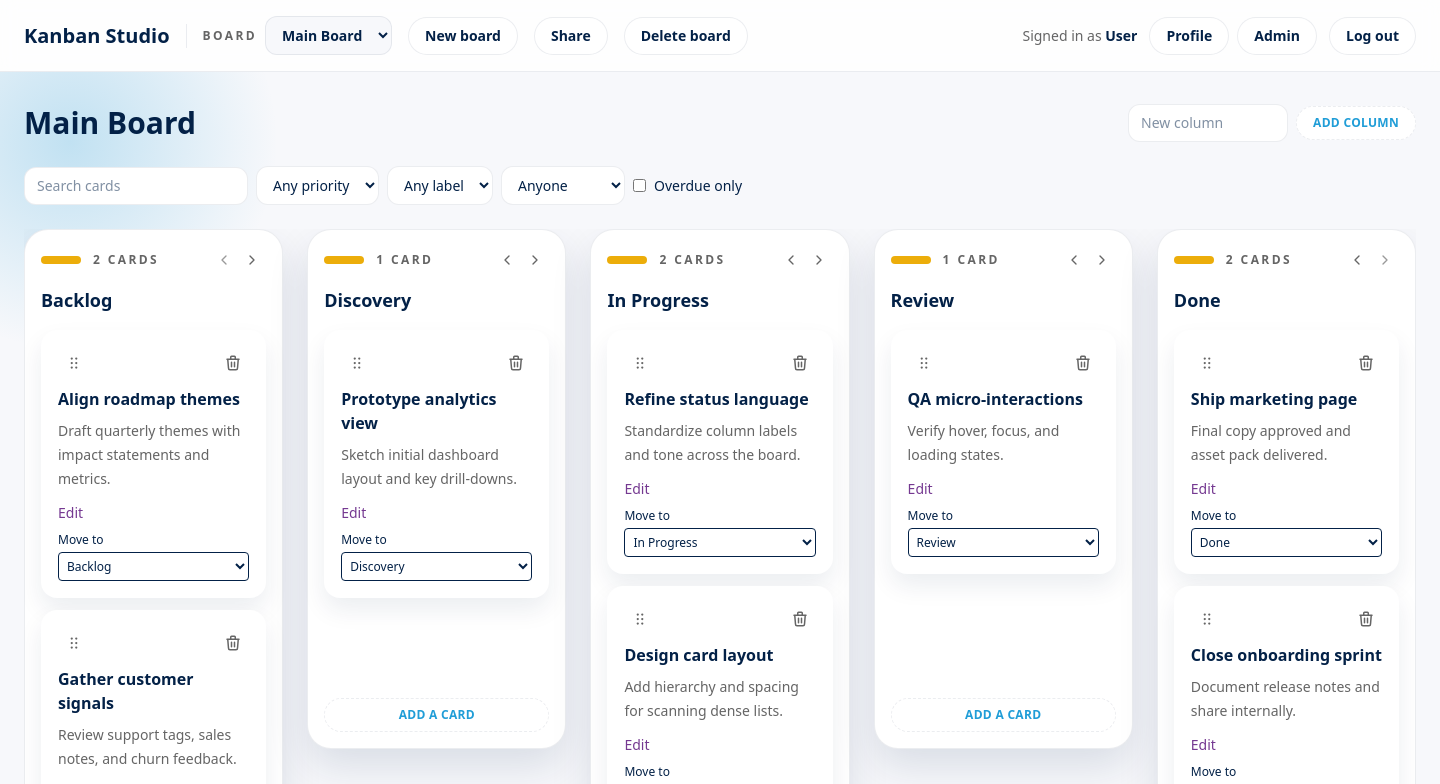
it: creates, switches, renames and deletes boards
The image size is (1440, 784).
Expected: the field named "Board name" is shown, [24,105,1116,141]
Click the button "New board" at [463, 36], box [408,16,518,54]
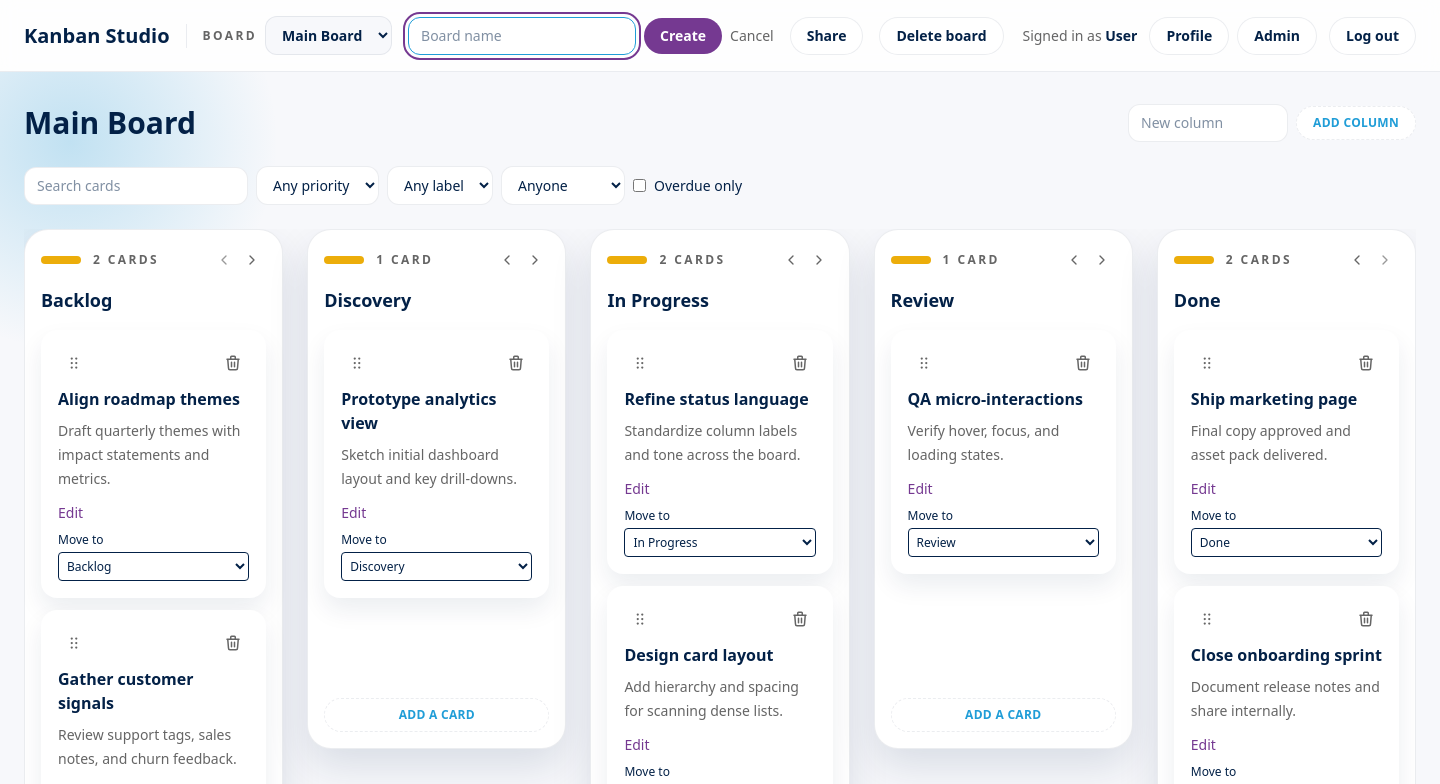
Type "Launch" into the field named "New board name" at [522, 36], box [408,16,636,54]
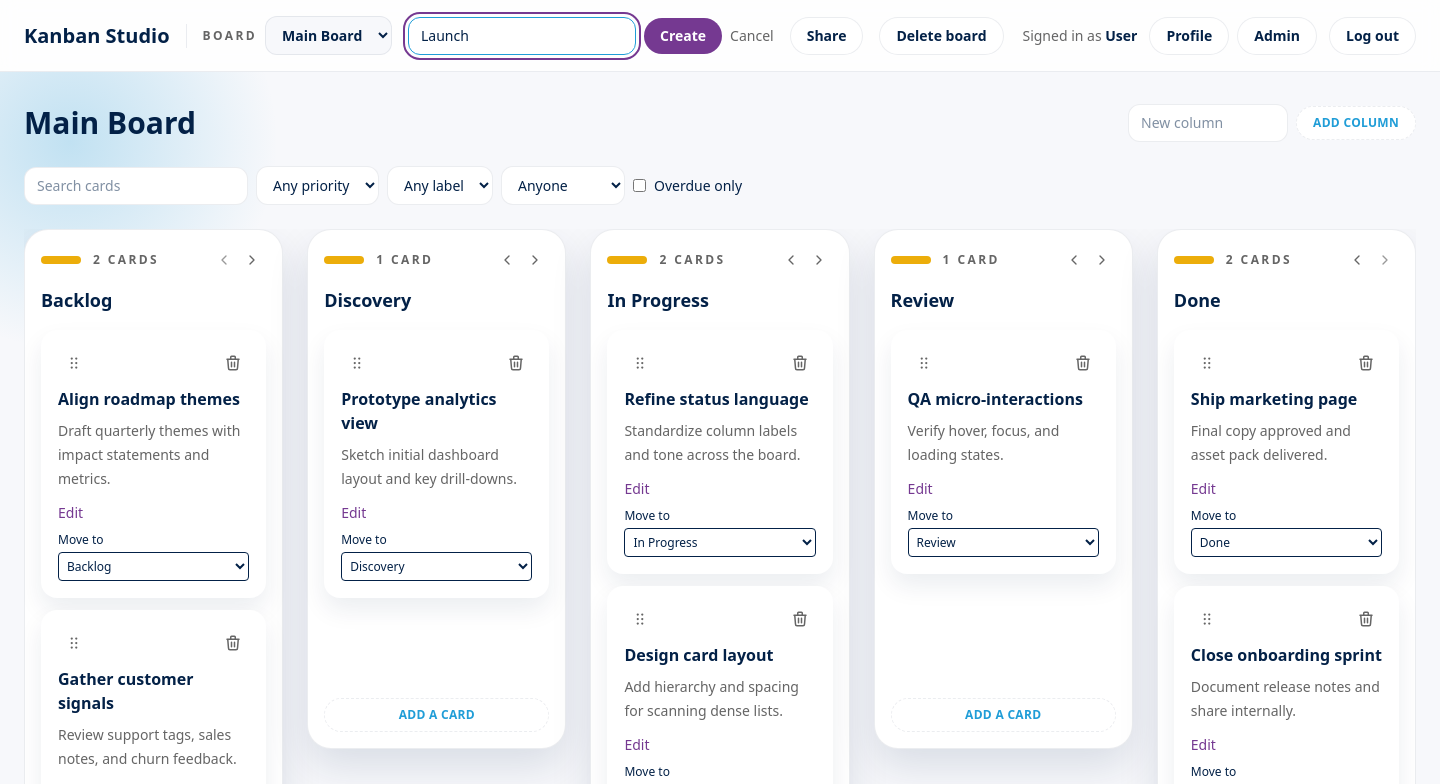
Click the button "Create" at [683, 36], box [644,18,722,54]
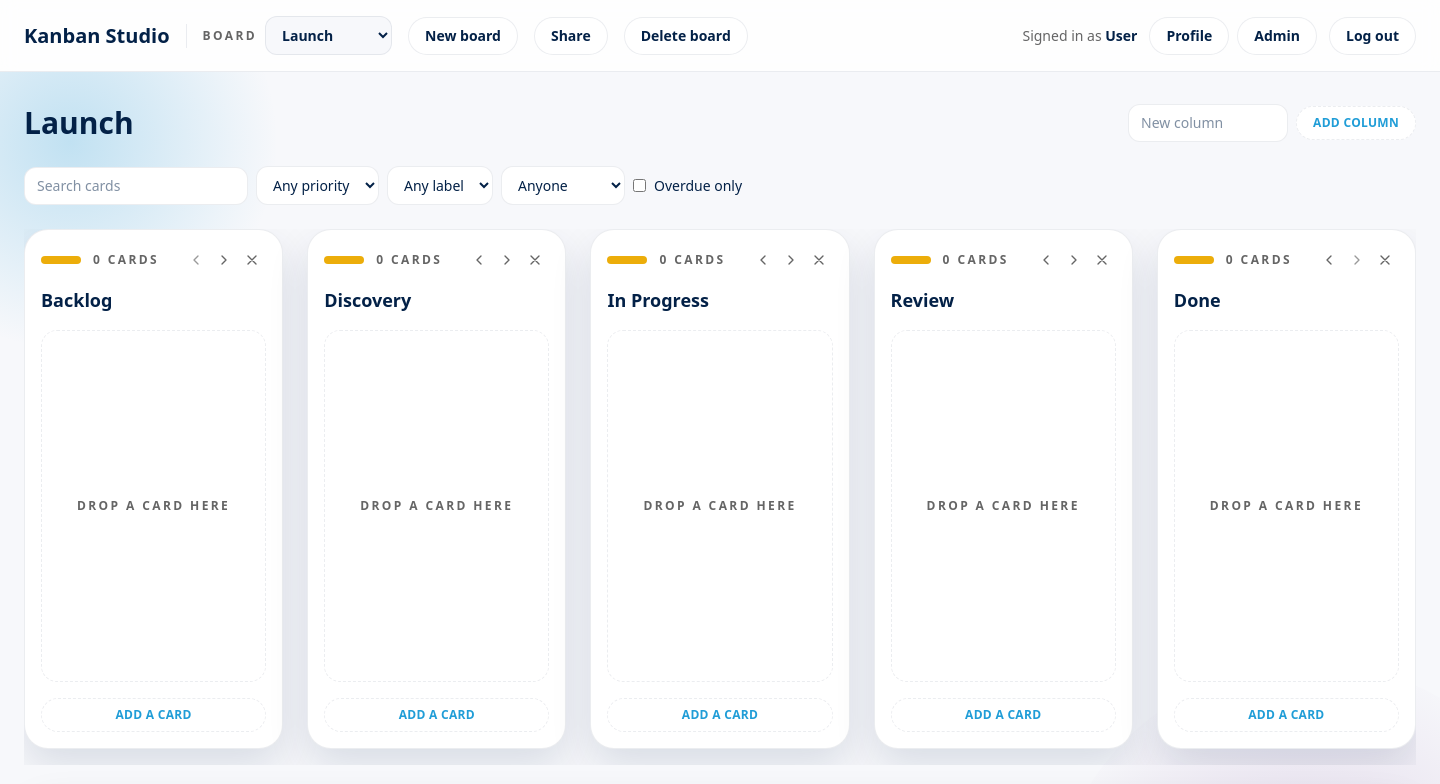
Now the field named "Board name" holds "Launch"
Now the dropdown labelled "Board" shows "Launch", box [265,16,392,55]
Replace the text in the field named "Board name" with "Launch Plan" at [570, 123], box [24,105,1116,141]
Then press Enter
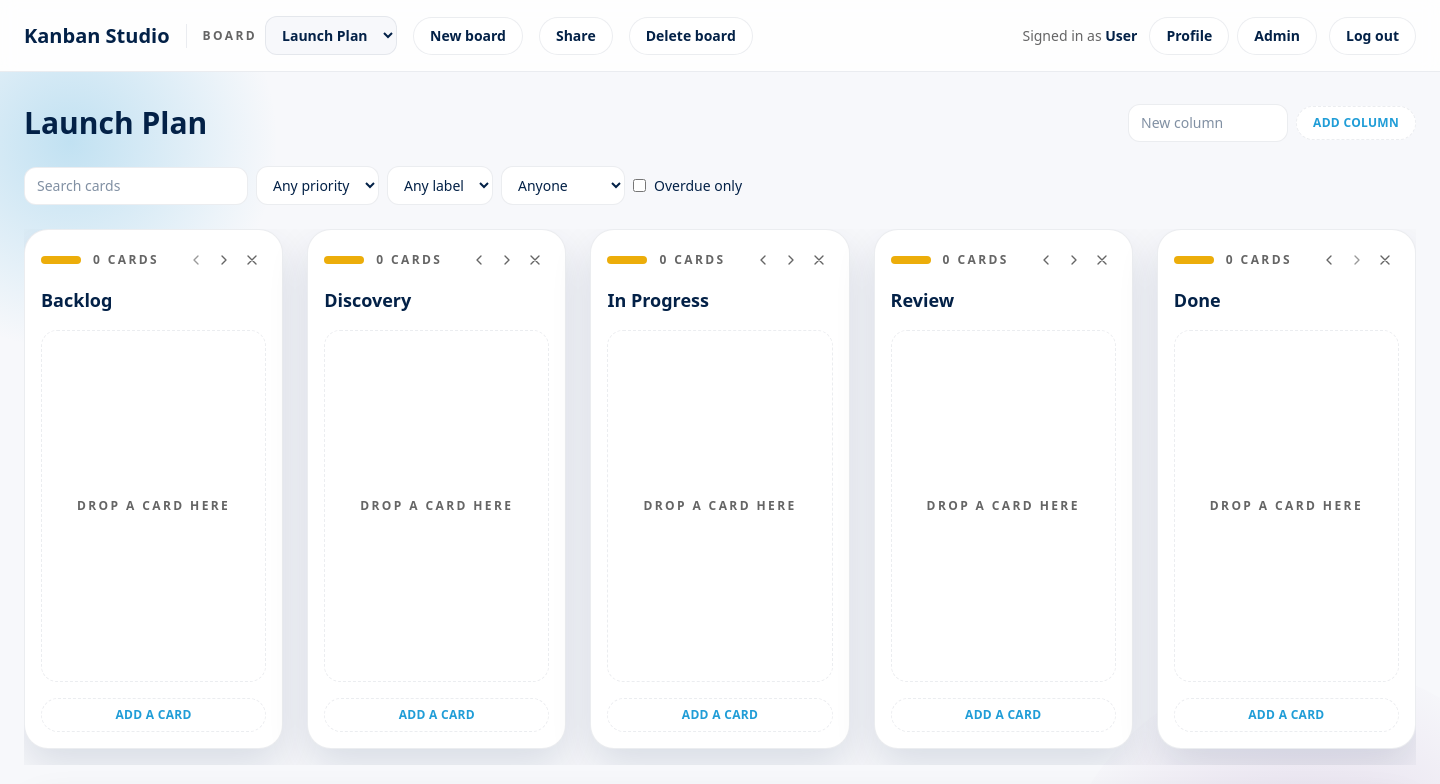
Select "Main Board" in the dropdown labelled "Board" at [331, 36], box [265,16,397,55]
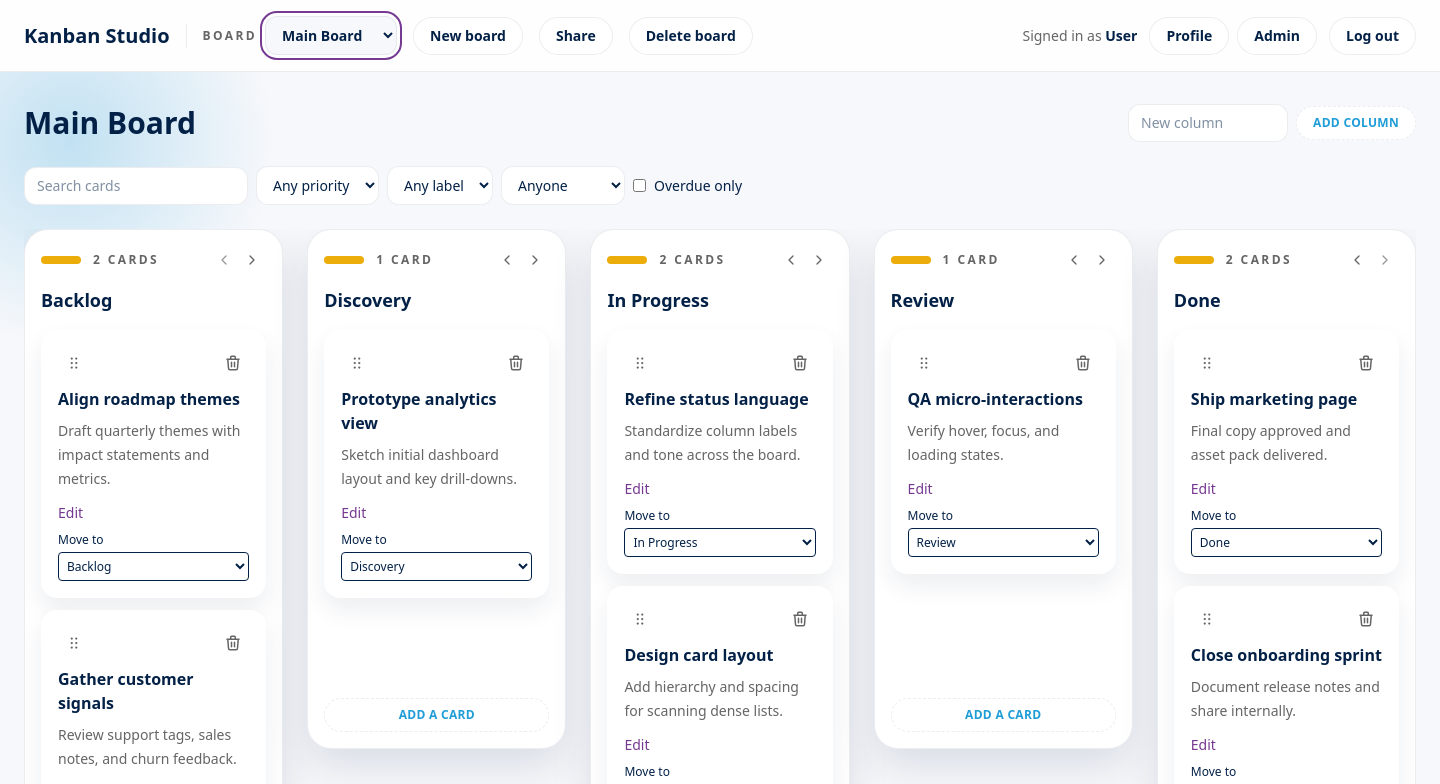
Now the field named "Board name" holds "Main Board", box [24,105,1116,141]
Click the button "Delete board" at [691, 36], box [629,16,753,54]
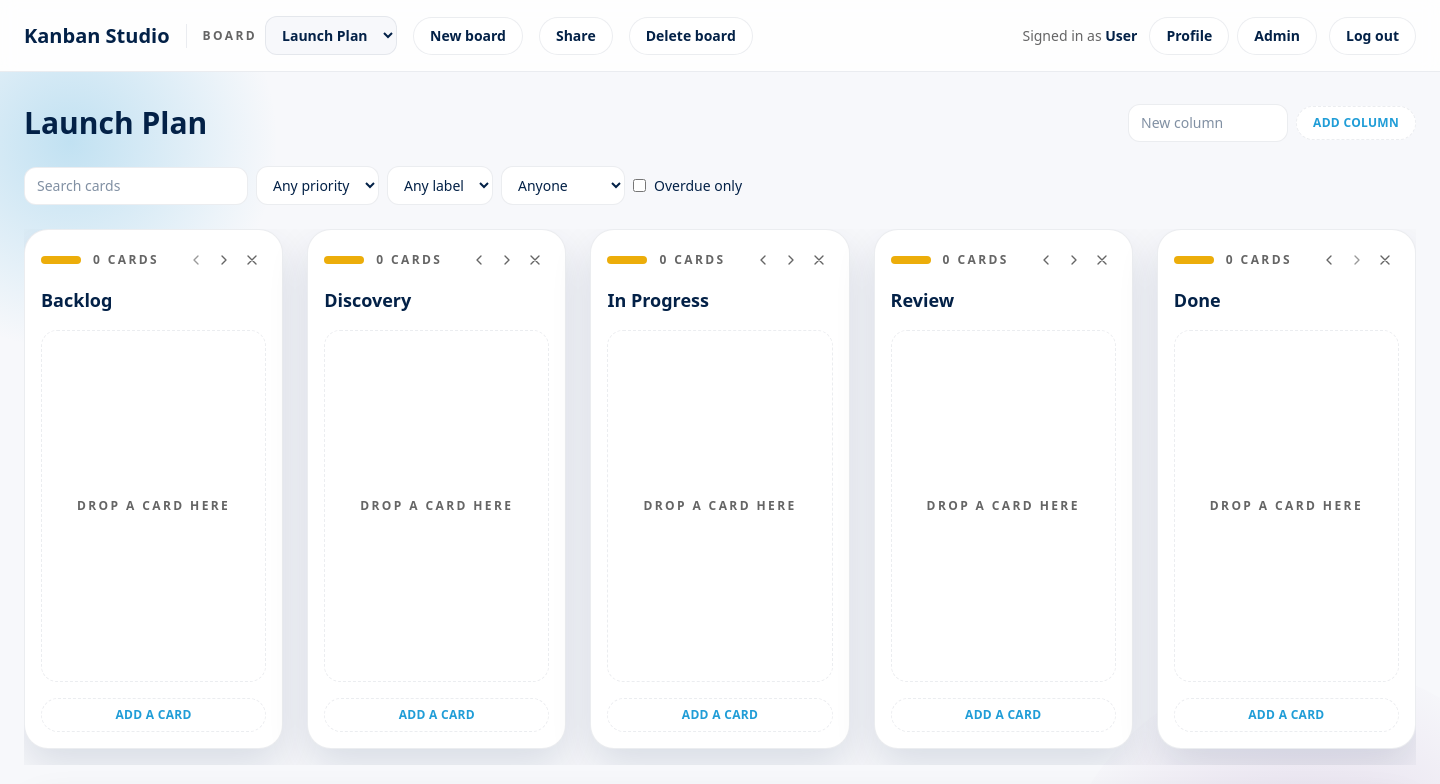
Now the field named "Board name" holds "Launch Plan", box [24,105,1116,141]
